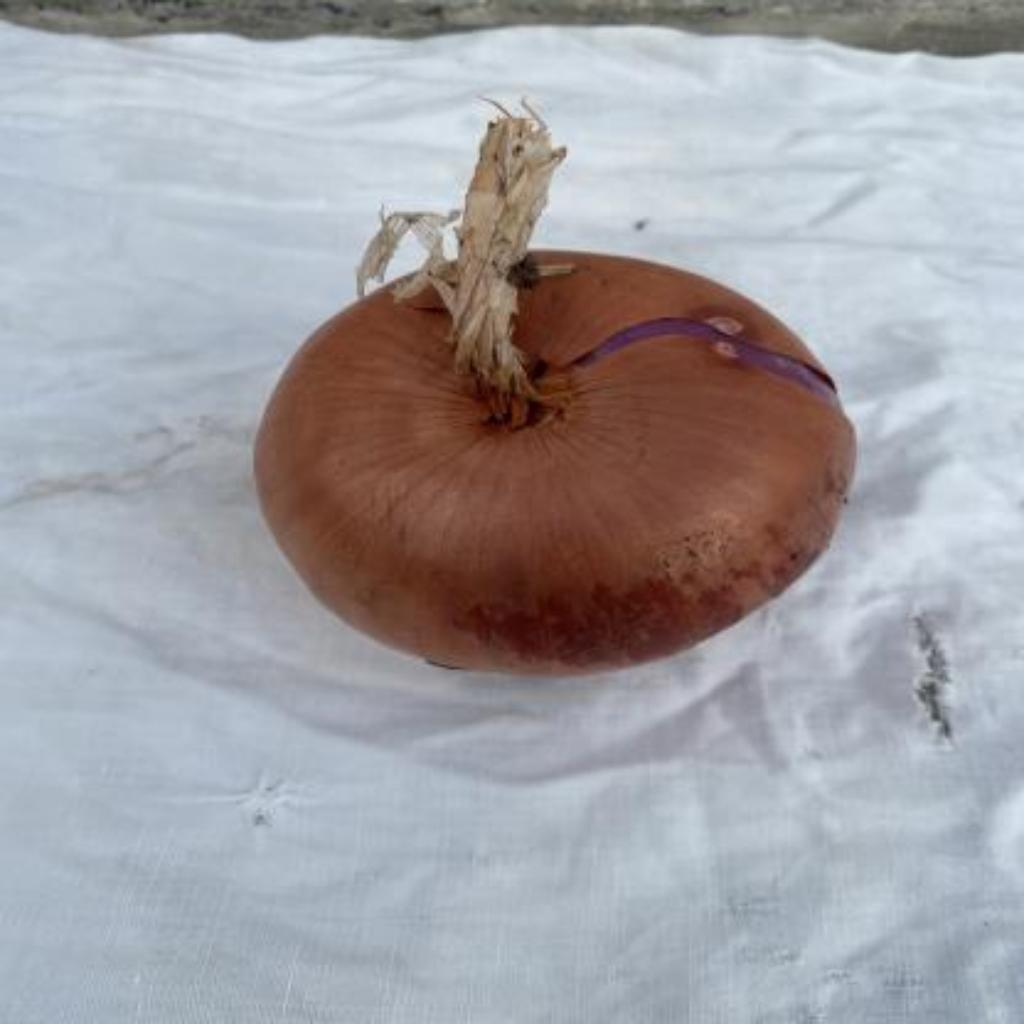Onion: (256, 106, 859, 673)
